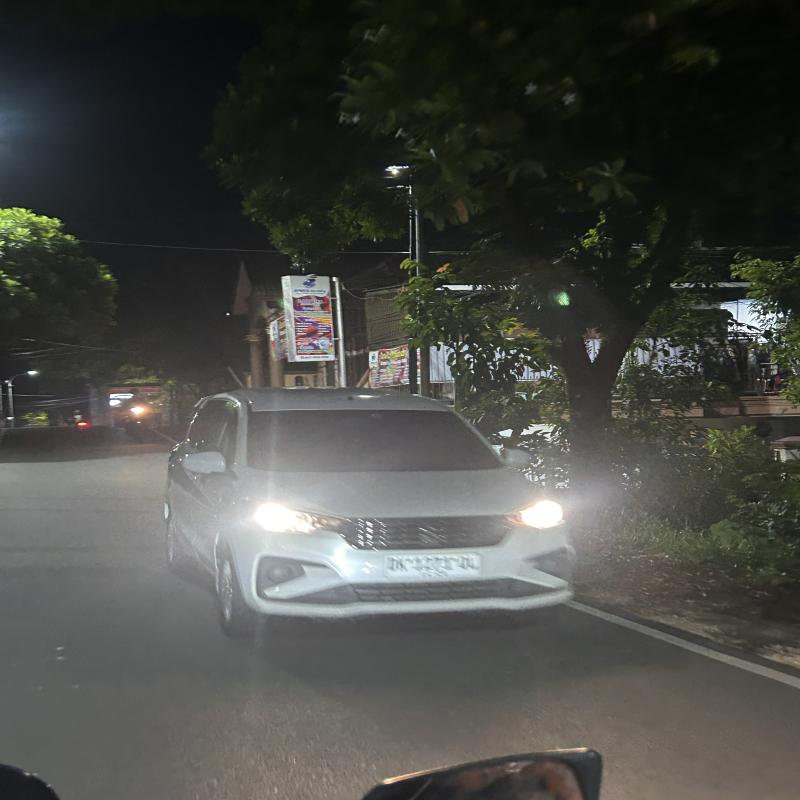license plate on a car: (384, 552, 490, 579)
